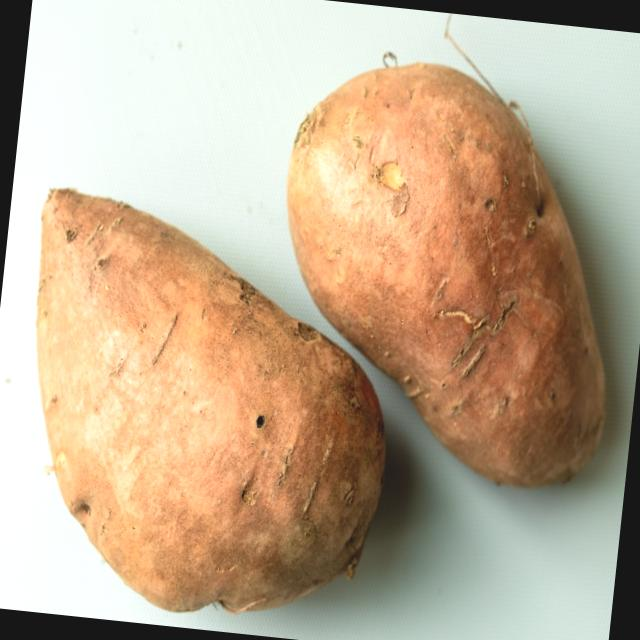potato: (0, 175, 427, 632), (265, 48, 640, 493)
